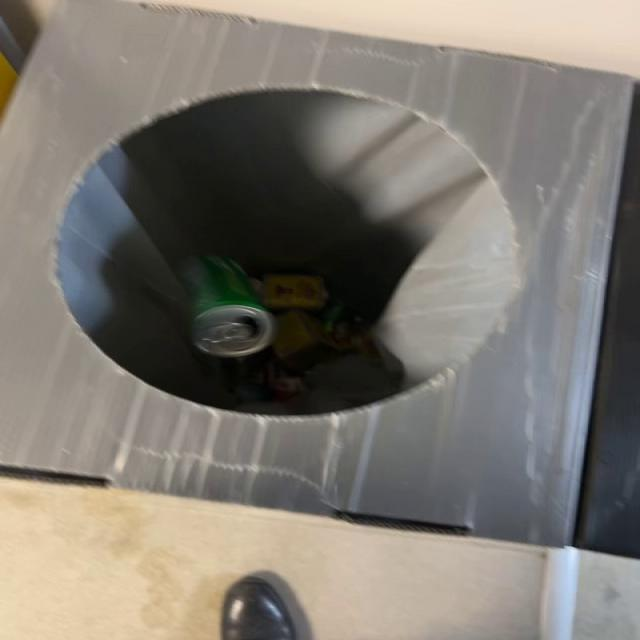bin: (1, 0, 633, 548)
metal: (183, 256, 275, 358)
